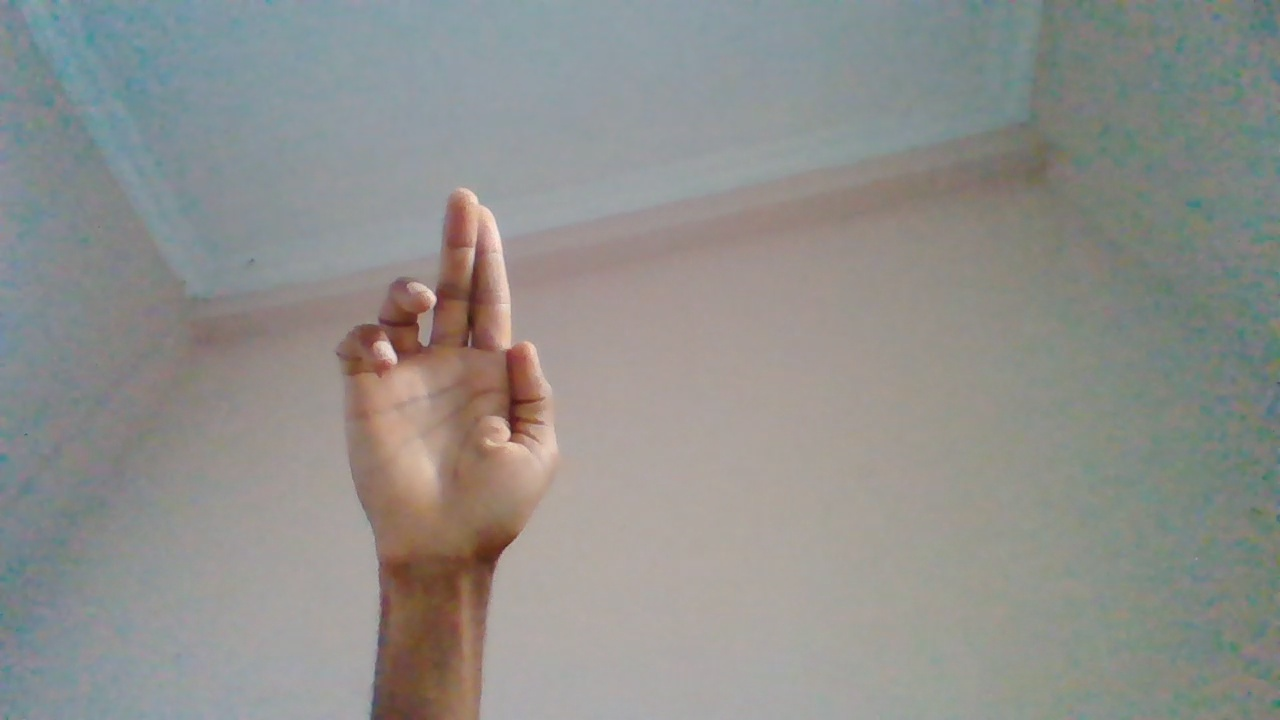gne: (329, 184, 562, 640)
